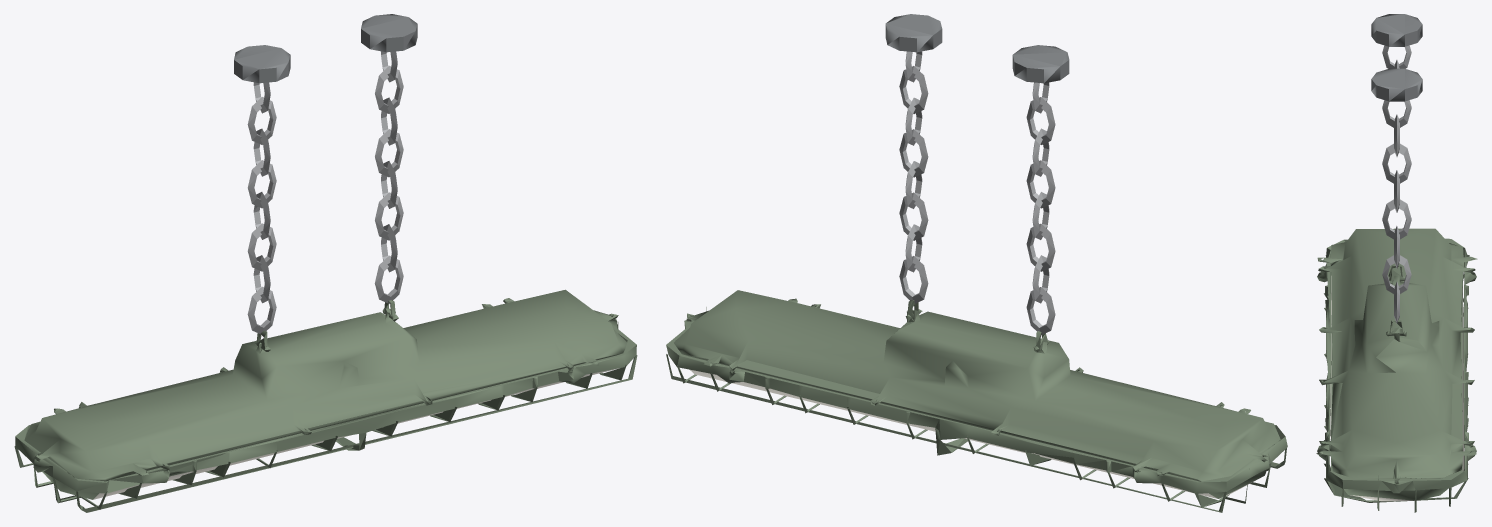
File: Dress_BulbCaged.fbx
The picture shows the model from 3 angles, left to right: view 1: azimuth 30°, elevation 25°; view 2: azimuth 150°, elevation 25°; view 3: azimuth 270°, elevation 25°; orthographic projection. The views are drawn at different scales.
Parts seen in each view (by area): view 1: Dress_BulbCaged; view 2: Dress_BulbCaged; view 3: Dress_BulbCaged.
Boxes of the visible parts, x1=… form: Dress_BulbCaged: x1=14, y1=14, x2=637, y2=512; Dress_BulbCaged: x1=666, y1=14, x2=1287, y2=512; Dress_BulbCaged: x1=1316, y1=14, x2=1477, y2=512.
Size of the model in its own units: 105 by 67.37 by 28.52.
